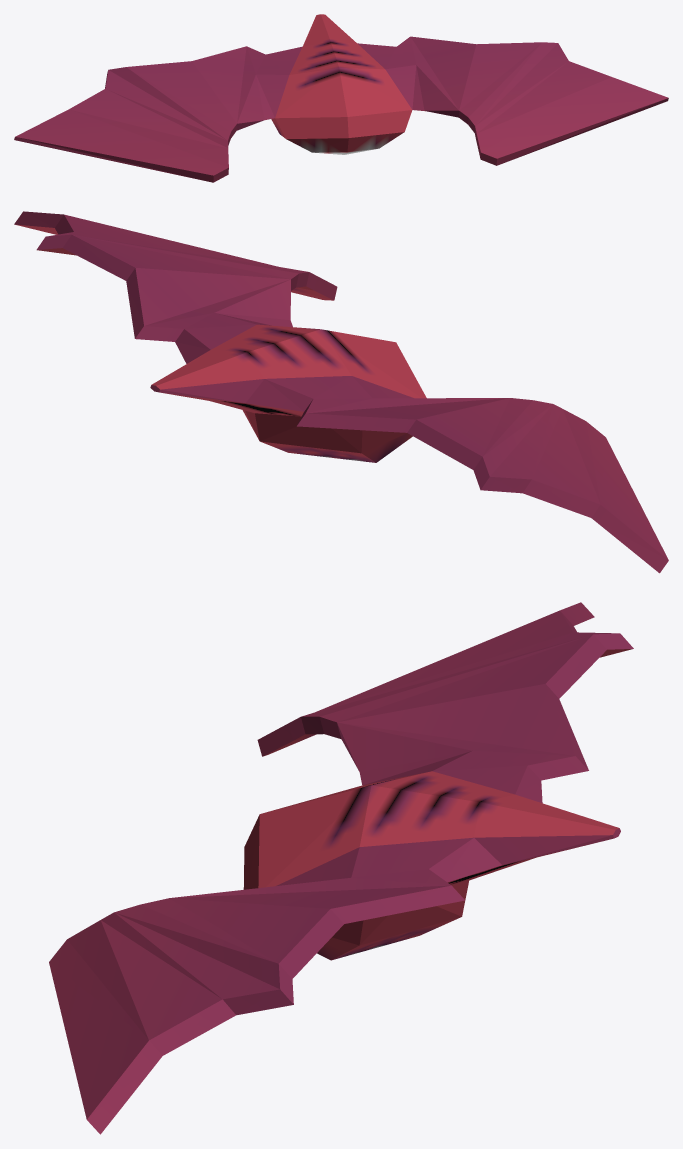
The model's file is bigOlBat_special.obj.
3 renders of one model, top to bottom at view 1: azimuth 30°, elevation 25°; view 2: azimuth 150°, elevation 25°; view 3: azimuth 270°, elevation 25°, orthographic. The views are drawn at different scales.
Parts seen in each view (by area): view 1: Sphere; view 2: Sphere; view 3: Sphere.
Part boxes in pixels (<box>): Sphere: <box>14,14,668,182</box>; Sphere: <box>14,211,668,573</box>; Sphere: <box>49,602,633,1134</box>.
Bounding box in the file's own units: 8.95 × 1.24 × 4.26.
1 material, 1 textured.
